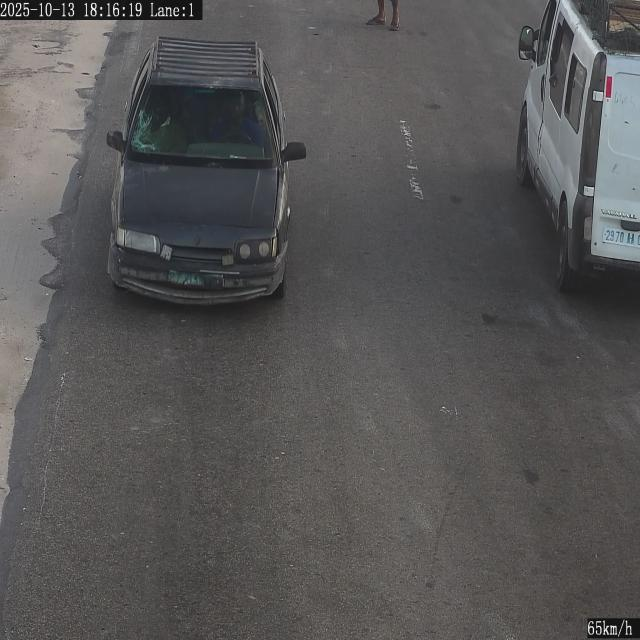BUS: (603, 227, 640, 249)
